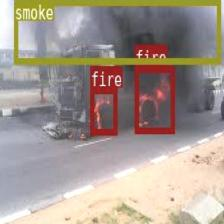fire: (134, 65, 174, 132), (90, 87, 116, 133)
smoke: (13, 0, 220, 63)
